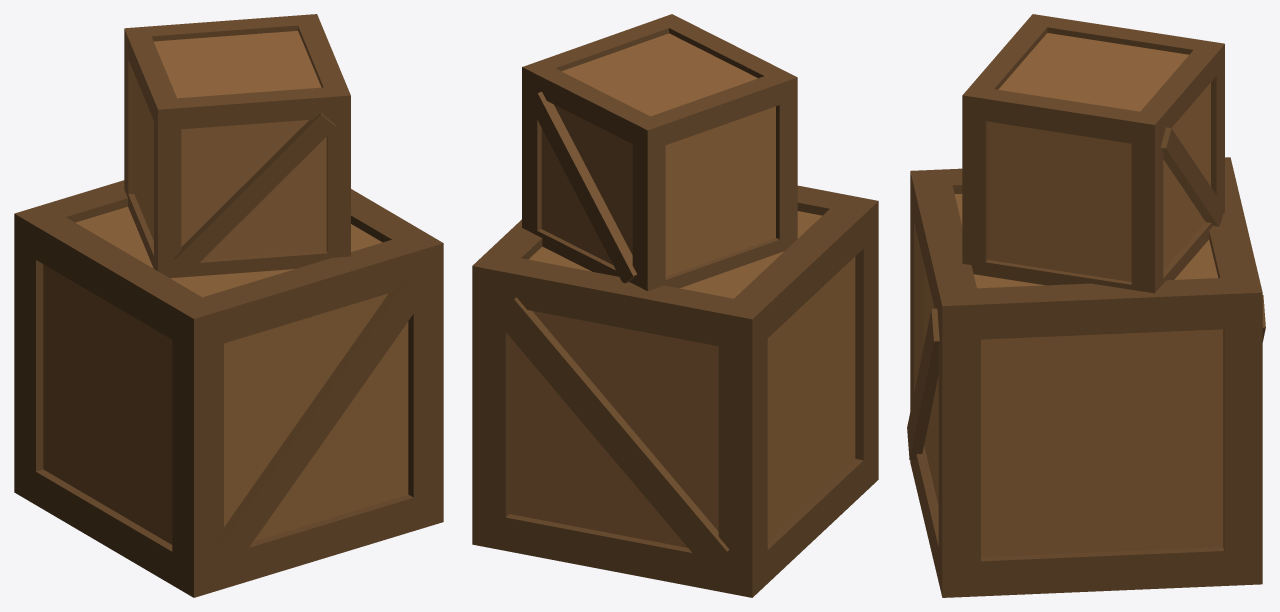
Rendered from Crate.glb.
3 views of the same model, side by side, from view 1: azimuth 30°, elevation 25°; view 2: azimuth 150°, elevation 25°; view 3: azimuth 270°, elevation 25° (orthographic). The views are drawn at different scales.
Visible parts, largest first — view 1: Body; view 2: Body; view 3: Body.
Boxes of the visible parts, x1,y1,x2,y2 form: Body: (14,14,443,597); Body: (472,14,878,597); Body: (907,14,1265,597).
Bounding box in the file's own units: 2.41 × 3.47 × 2.45.
